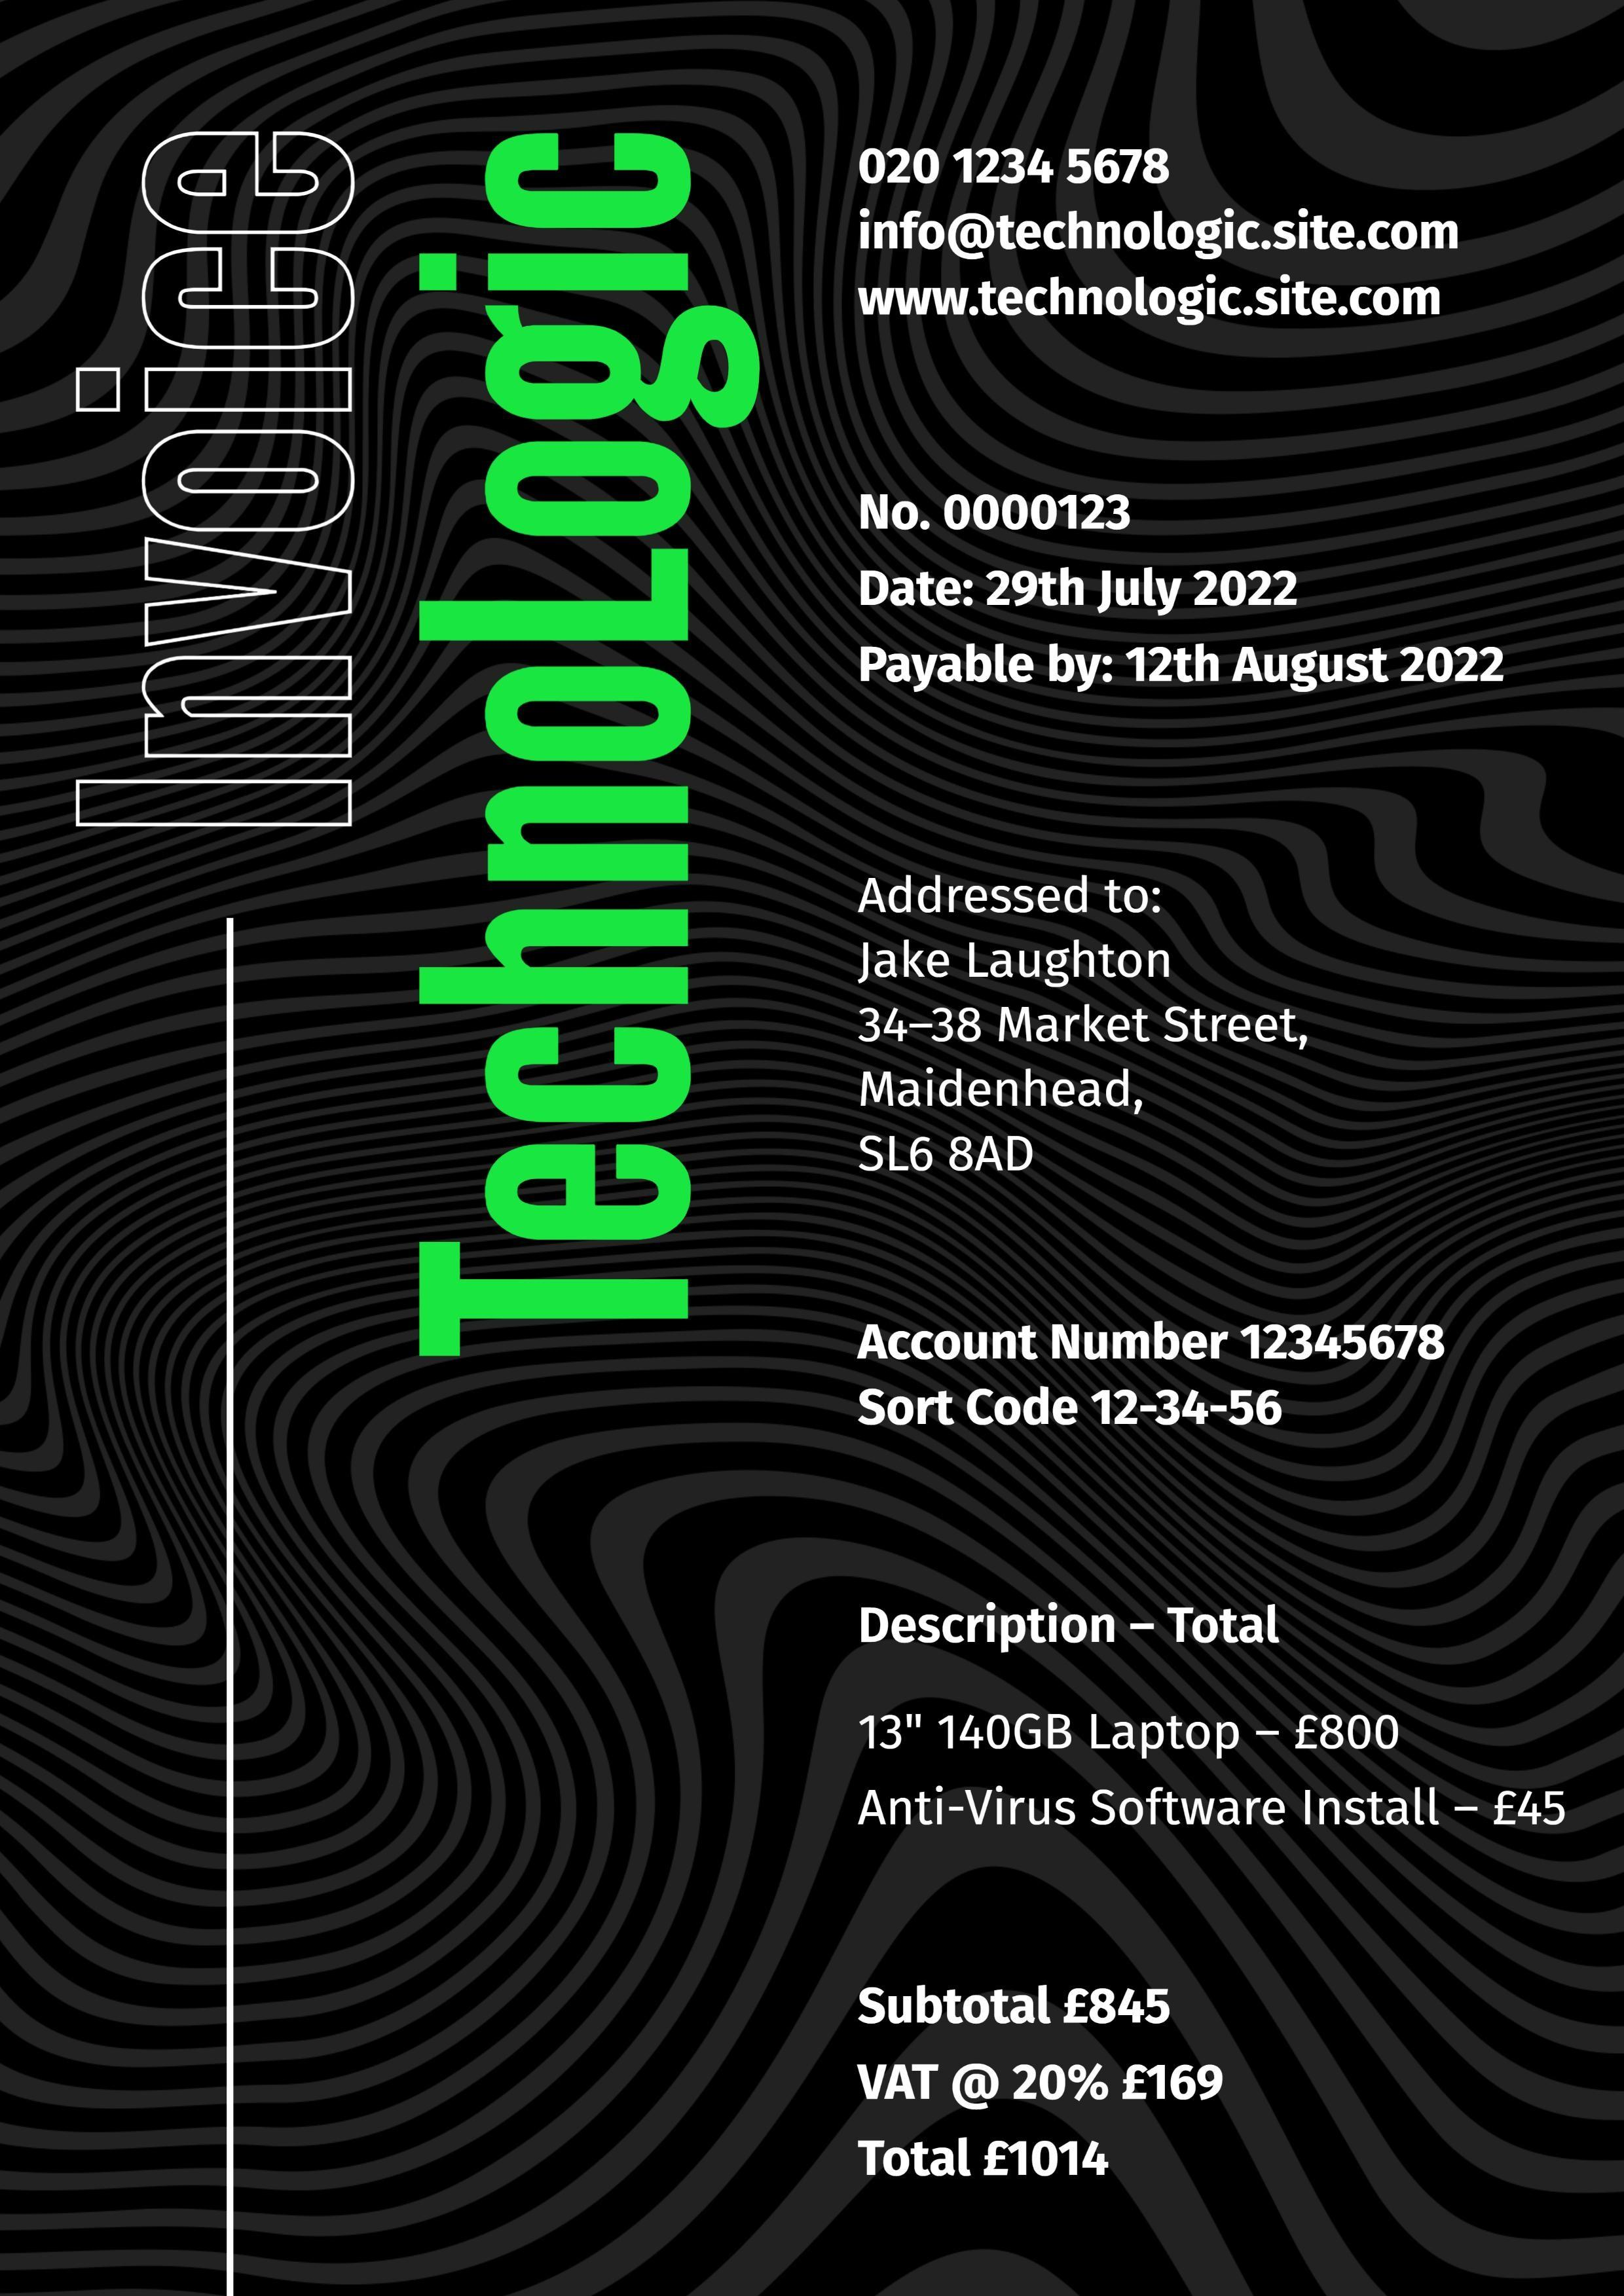ROI: (833, 467, 1539, 720), (853, 1594, 1564, 1835), (838, 113, 1488, 375), (847, 867, 1311, 1189), (840, 1311, 1481, 1467), (833, 1969, 1206, 2196)
